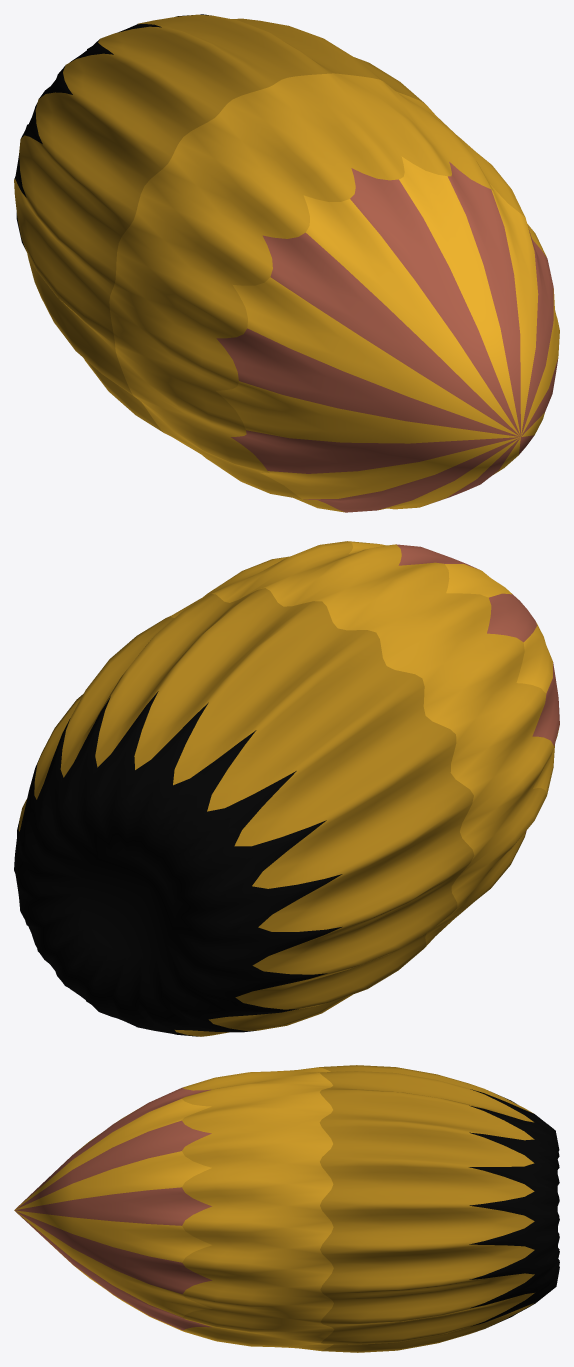
File: Missile.fbx
The picture shows the model from 3 angles, top to bottom: view 1: azimuth 30°, elevation 25°; view 2: azimuth 150°, elevation 25°; view 3: azimuth 270°, elevation 25°; orthographic projection. The views are drawn at different scales.
Parts seen in each view (by area): view 1: pCylinder1; view 2: pCylinder1; view 3: pCylinder1.
Part boxes in pixels (x1,y1,x2,y2): pCylinder1: (14,14,559,512); pCylinder1: (14,541,559,1036); pCylinder1: (14,1065,559,1352).
Bounding box in the file's own units: 0.4422 × 0.4422 × 0.8481.
